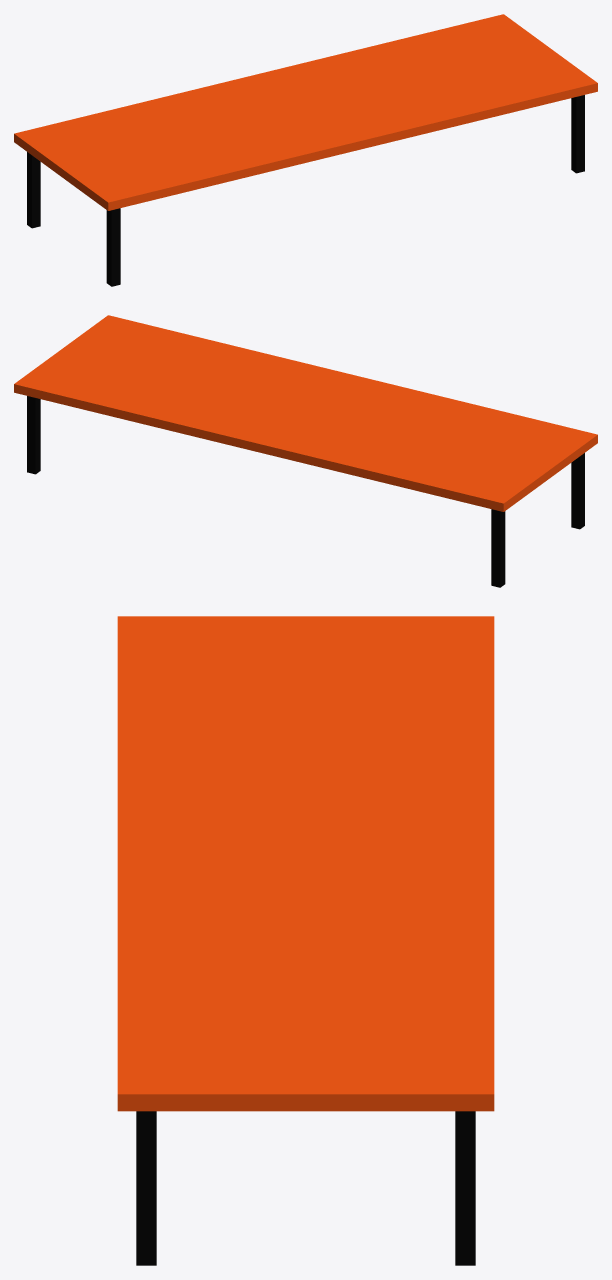
The model's file is Table.mtl.obj.
The picture shows the model from 3 angles, top to bottom: view 1: azimuth 30°, elevation 25°; view 2: azimuth 150°, elevation 25°; view 3: azimuth 270°, elevation 25°; orthographic projection. The views are drawn at different scales.
Visible parts, largest first — view 1: 立方体.004; view 2: 立方体.004; view 3: 立方体.004.
Boxes of the visible parts, x1,y1,x2,y2 form: 立方体.004: [14, 14, 597, 286]; 立方体.004: [14, 315, 597, 587]; 立方体.004: [117, 616, 494, 1265].
Size of the model in its own units: 6 by 1.05 by 2.
